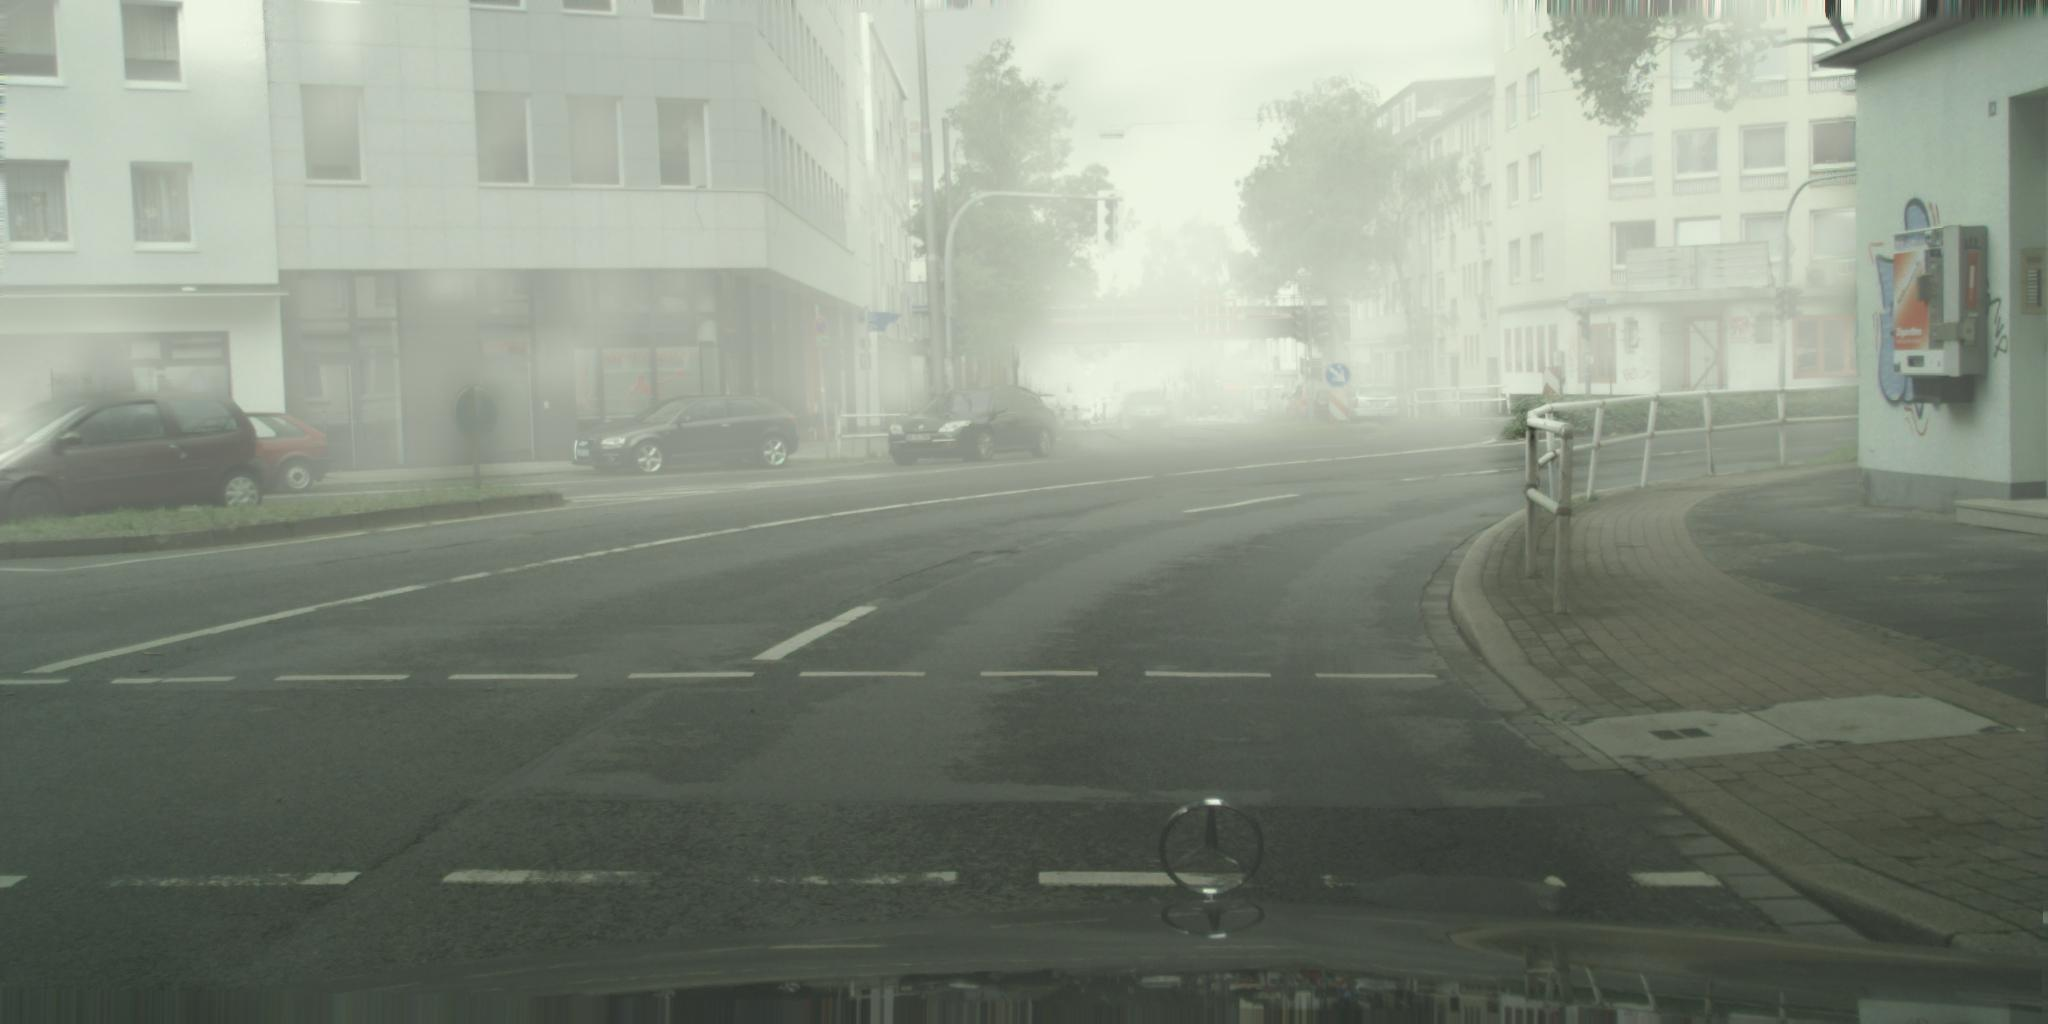car: (1, 392, 270, 538), (573, 394, 802, 475), (889, 387, 1058, 468), (202, 414, 333, 498), (1339, 384, 1403, 427), (1343, 384, 1401, 426), (1287, 381, 1340, 424), (1285, 381, 1337, 424), (1243, 387, 1294, 424), (1242, 387, 1290, 424), (1122, 393, 1172, 430), (1028, 396, 1064, 435), (1267, 391, 1304, 421), (1271, 391, 1301, 423), (1313, 391, 1340, 423), (1225, 396, 1255, 423), (1228, 396, 1255, 421), (1217, 398, 1240, 421), (1192, 404, 1220, 421), (1219, 398, 1240, 421), (1204, 401, 1228, 421), (1206, 401, 1228, 421), (1192, 404, 1213, 423), (1186, 404, 1203, 421), (1186, 404, 1199, 421)
